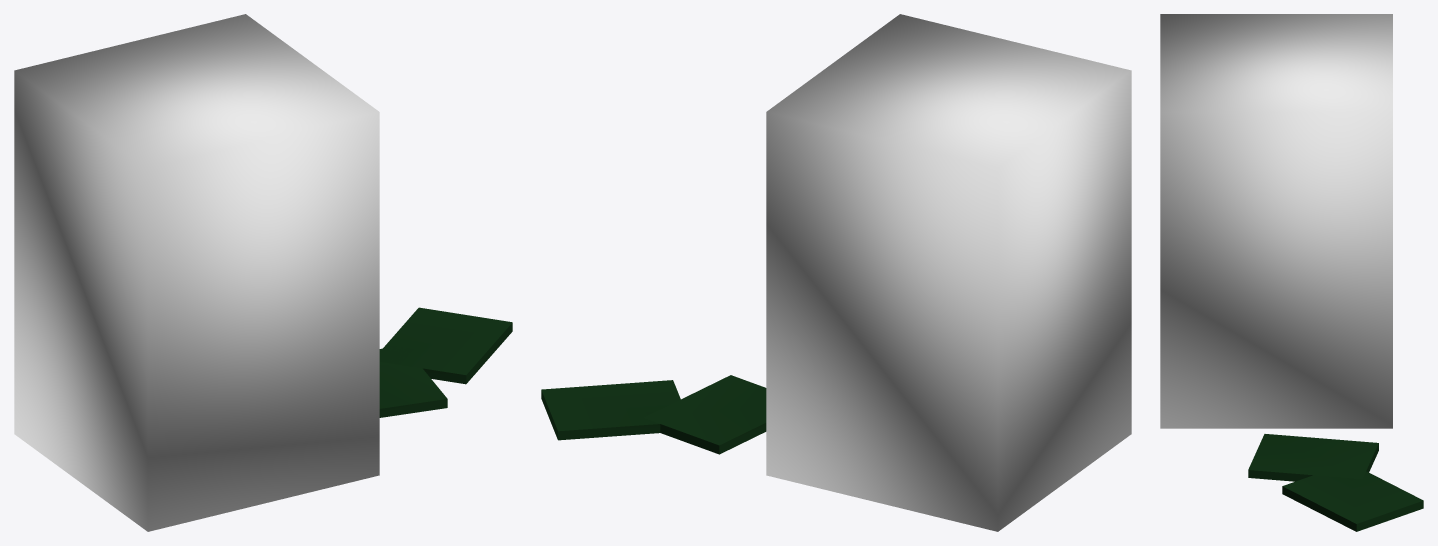
File: botella_rota.glb
3 renders of one model, left to right at view 1: azimuth 30°, elevation 25°; view 2: azimuth 150°, elevation 25°; view 3: azimuth 270°, elevation 25°, orthographic. The views are drawn at different scales.
Parts seen in each view (by area): view 1: botella-colcaja, botella; view 2: botella-colcaja, botella; view 3: botella-colcaja, botella.
Part boxes in pixels (x1,y1,x2,y2): botella-colcaja: [14, 14, 379, 531]; botella: [379, 307, 512, 417]; botella-colcaja: [766, 14, 1131, 531]; botella: [541, 375, 766, 454]; botella-colcaja: [1160, 14, 1392, 428]; botella: [1248, 434, 1423, 531].
Size of the model in its own units: 0.165 by 0.12 by 0.0906.
